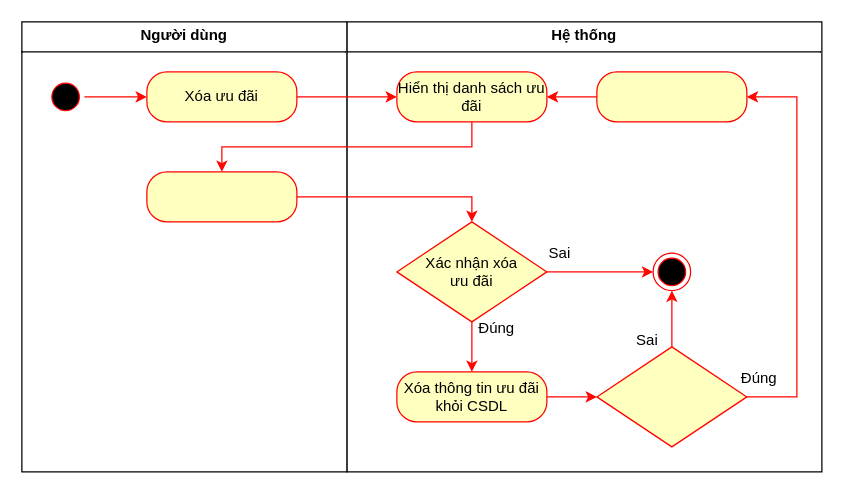
Image size: 844x494. Some labels were removed from this diagram. The shapes that lost their labels are listed below. From the top down, each one's centre as x and y in pixels, then its label:
At point (671, 96): "Cập nhật danh sách ưu đãi".
At point (221, 196): "Chọn ưu đãi".
At point (671, 396): "Xóa ưu đãi khác".
